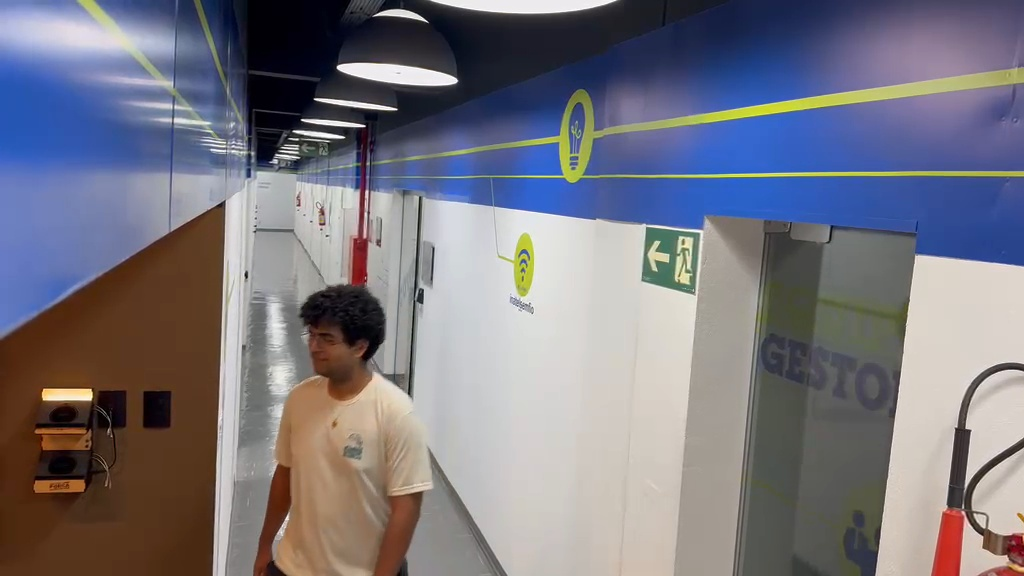person: (252, 281, 435, 574)
